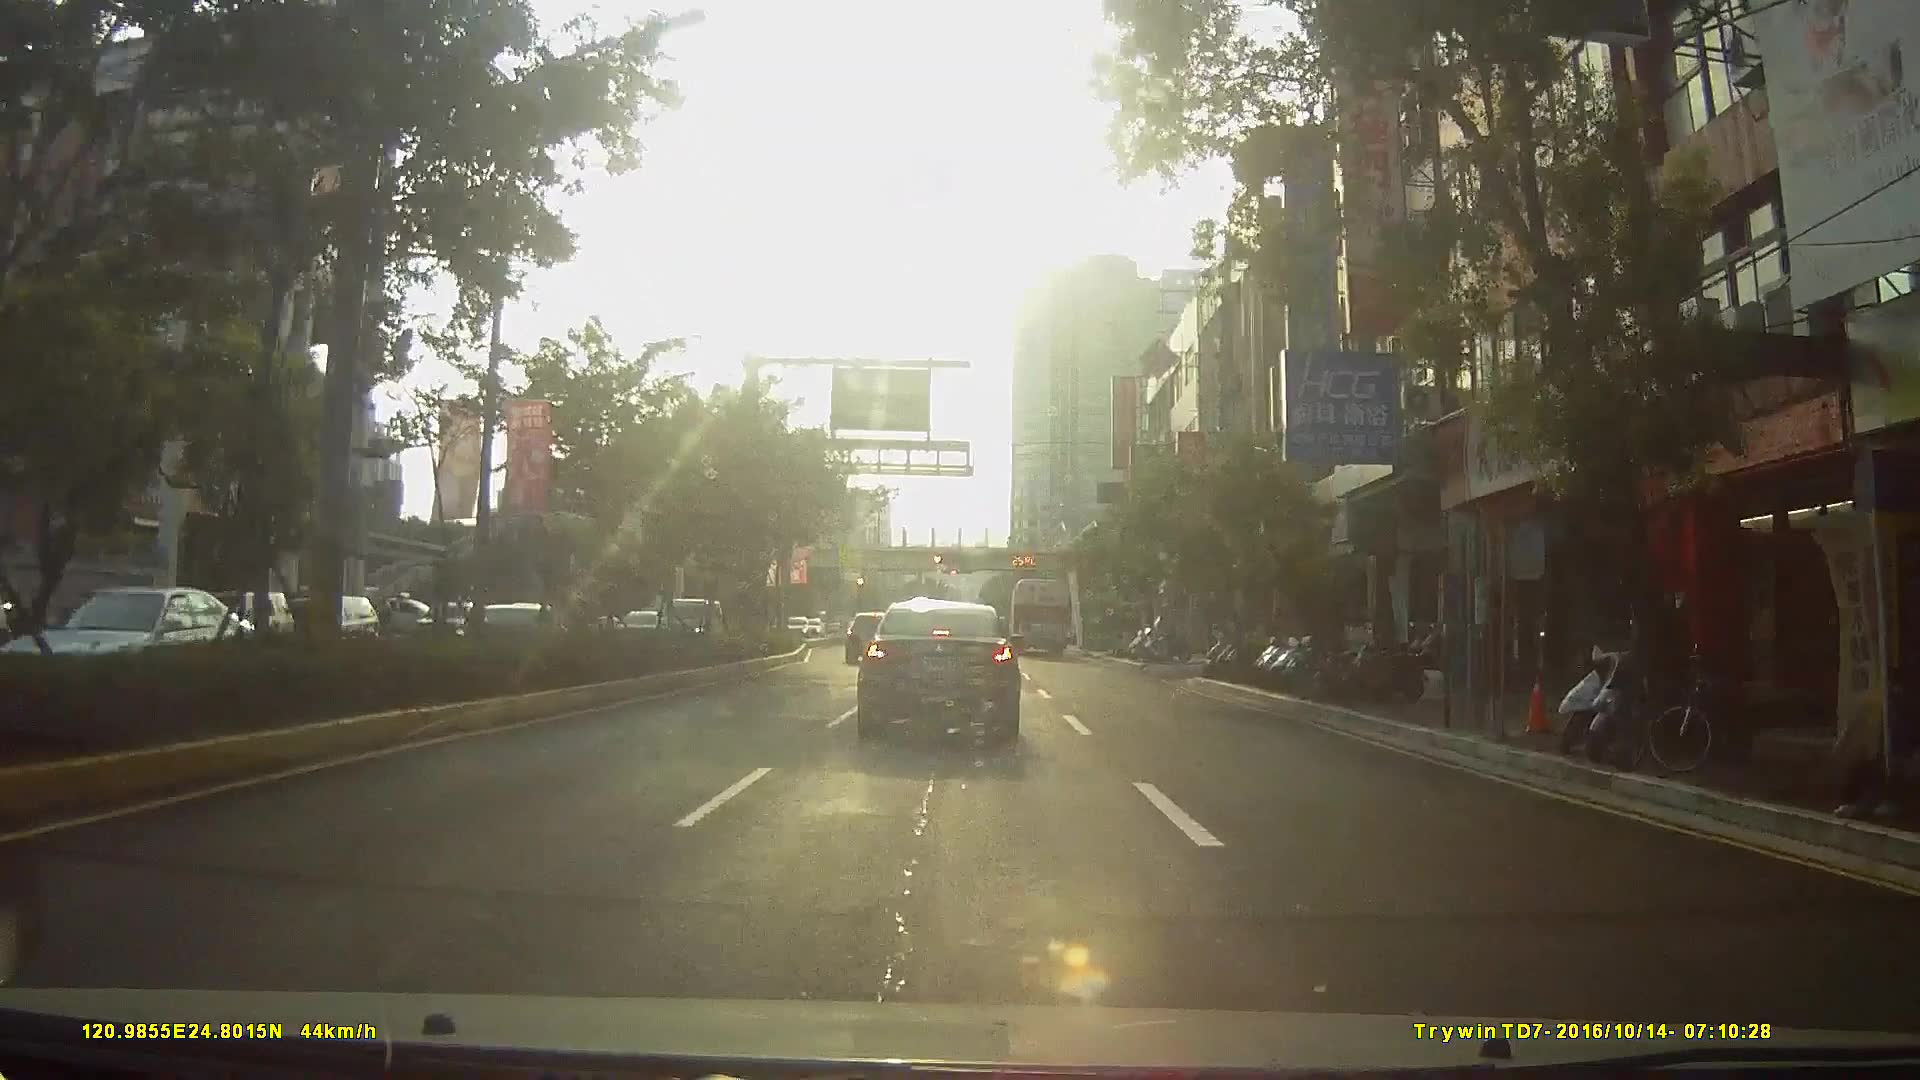vehicle: (9, 585, 251, 691), (856, 600, 1022, 745), (167, 588, 282, 658), (282, 592, 376, 654), (1006, 574, 1075, 655), (844, 611, 895, 663)
